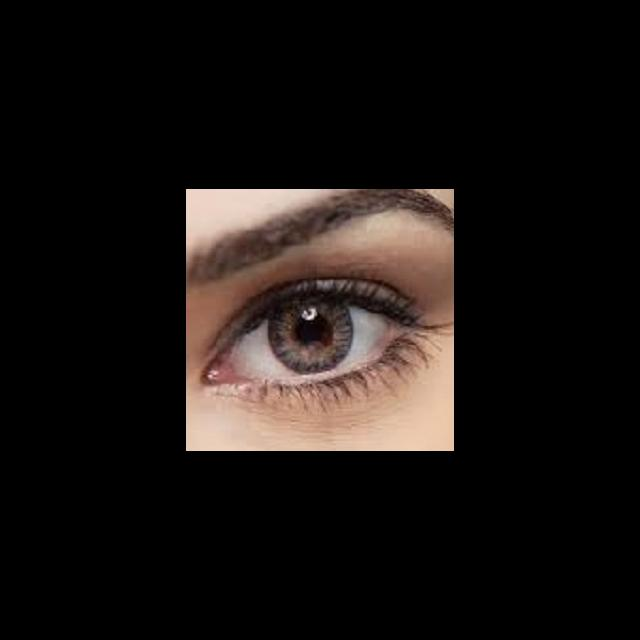eye: (226, 298, 395, 382)
iris: (267, 301, 359, 378)
